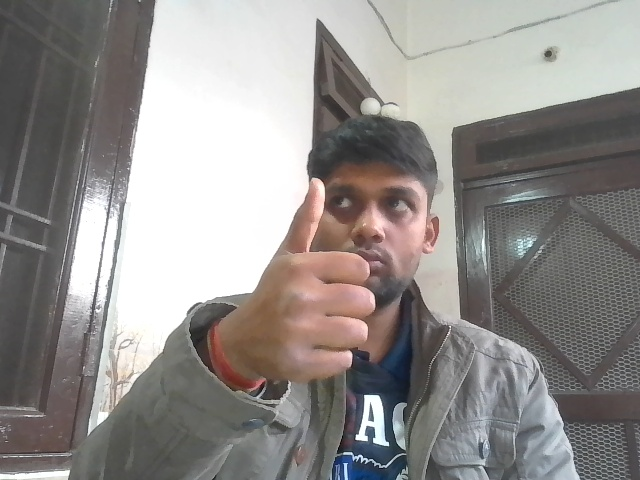BestOfLuck: (257, 174, 376, 386)
